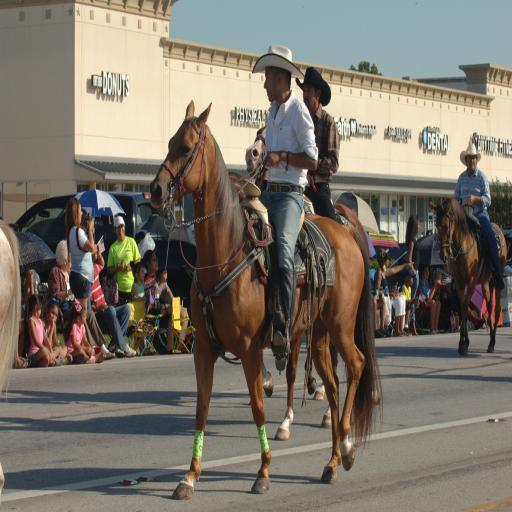horse: (148, 99, 384, 499), (242, 122, 382, 438), (230, 171, 325, 397), (429, 195, 507, 356), (0, 218, 25, 492)
